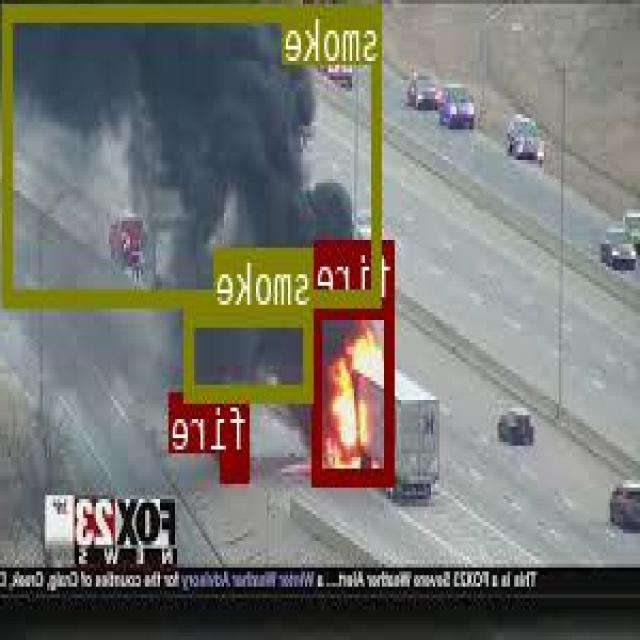fire: (316, 301, 396, 480), (223, 453, 252, 479)
smoke: (6, 0, 383, 302), (186, 306, 314, 400)
